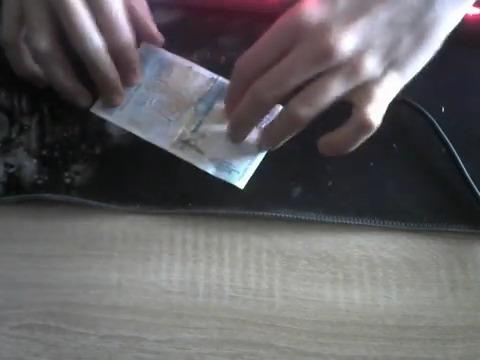20leva: (88, 44, 269, 189)
